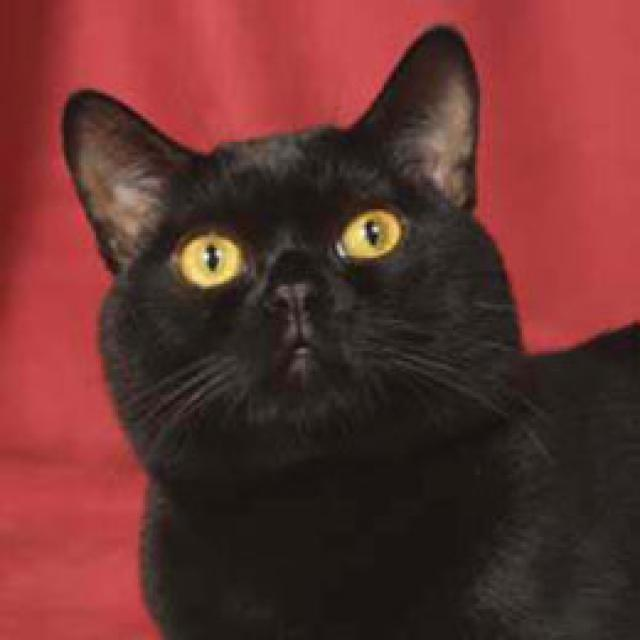Bombay: (59, 21, 510, 470)
